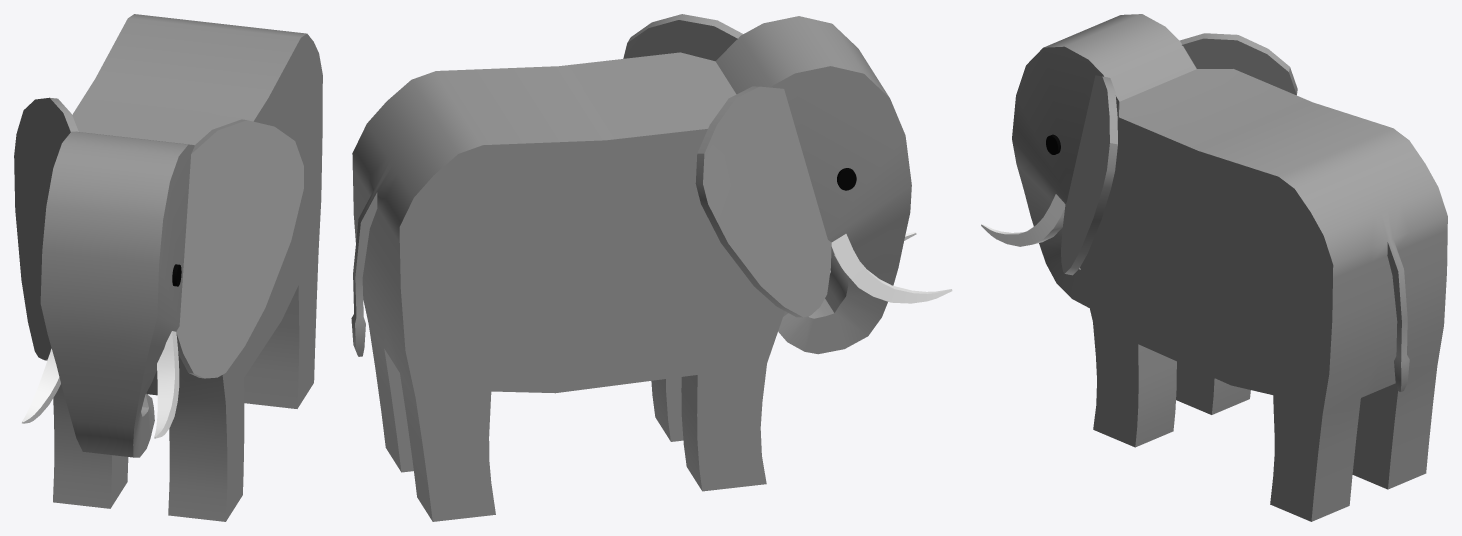
File: elephant.glb
3 views of the same model, side by side, from view 1: azimuth 30°, elevation 25°; view 2: azimuth 150°, elevation 25°; view 3: azimuth 270°, elevation 25° (orthographic). The views are drawn at different scales.
Parts seen in each view (by area): view 1: Plane.132, Plane.133, Cube.6238; view 2: Plane.132, Plane.133, Cube.6238; view 3: Plane.132, Plane.133, Cube.6238.
Boxes of the visible parts, x1=… form: Plane.132: x1=40, y1=14, x2=322, y2=521; Plane.133: x1=14, y1=97, x2=303, y2=378; Cube.6238: x1=22, y1=331, x2=179, y2=438; Plane.132: x1=351, y1=16, x2=911, y2=521; Plane.133: x1=623, y1=14, x2=831, y2=317; Cube.6238: x1=831, y1=232, x2=952, y2=303; Plane.132: x1=1012, y1=14, x2=1447, y2=521; Plane.133: x1=1061, y1=33, x2=1297, y2=275; Cube.6238: x1=981, y1=194, x2=1065, y2=246.
Bounding box in the file's own units: 2.31 × 1.94 × 2.31.
1 material, 1 textured.
